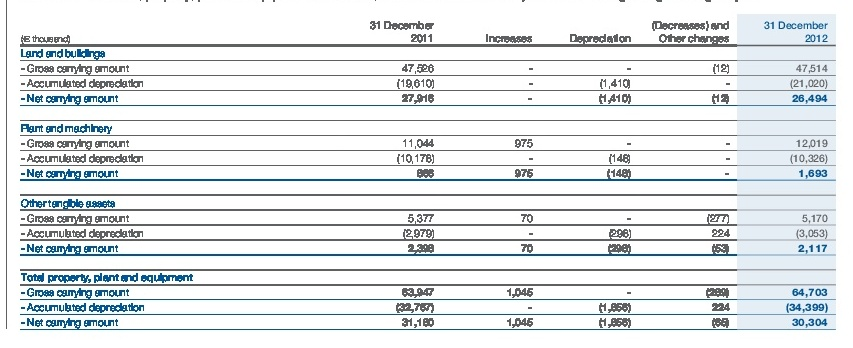table: (0, 0, 853, 348)
